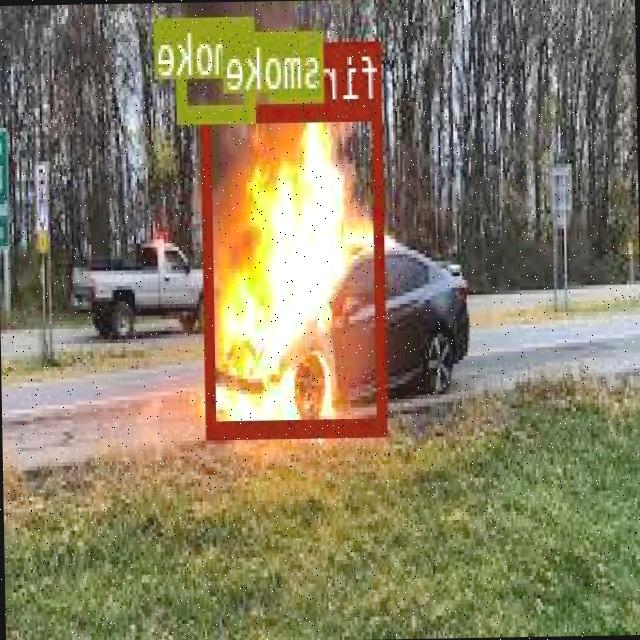fire: (202, 99, 388, 436)
smoke: (177, 13, 257, 118), (270, 27, 324, 96)
